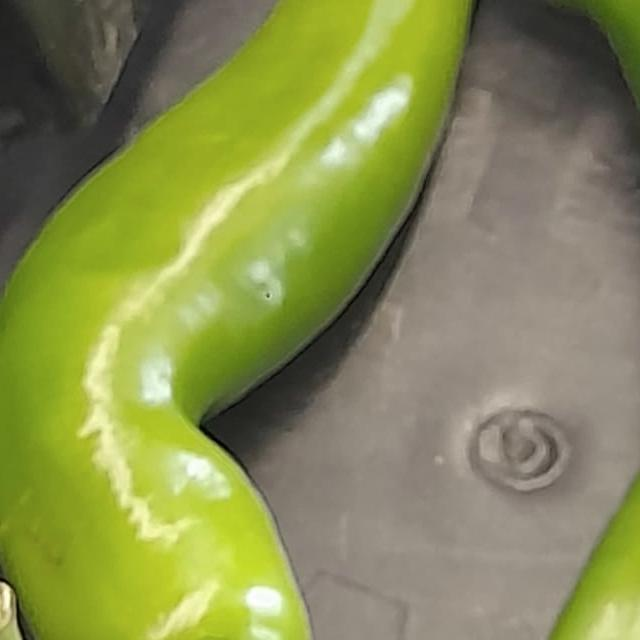chili_pepper: (0, 0, 566, 640), (236, 0, 640, 640)
